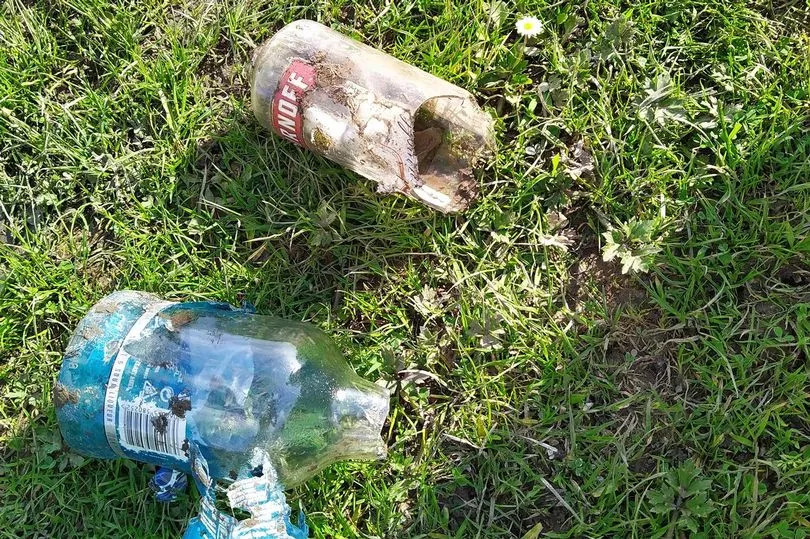glass: (49, 254, 418, 513), (239, 25, 525, 227)
